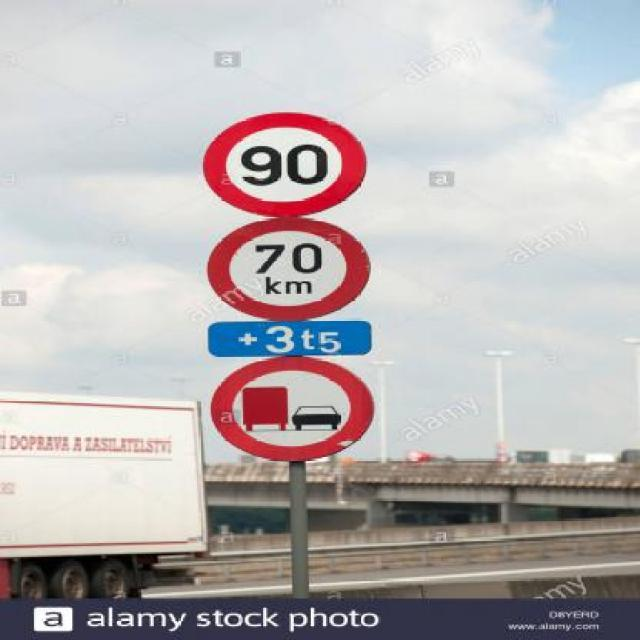Ograniczenie predkosci do 90: (205, 106, 368, 218)
